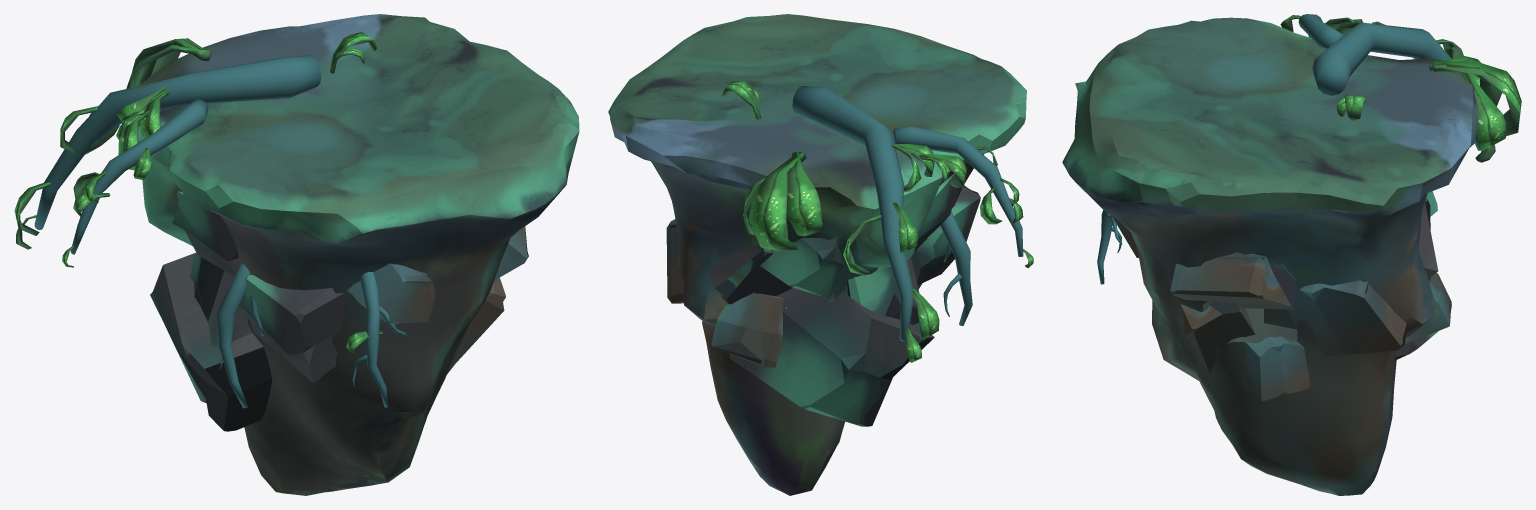
Rendered from AnomalyRockFirst.fbx.
3 views of the same model, side by side, from view 1: azimuth 30°, elevation 25°; view 2: azimuth 150°, elevation 25°; view 3: azimuth 270°, elevation 25° (orthographic). The views are drawn at different scales.
Visible parts, largest first — view 1: Cube.011, Cube.042, Cylinder.001, Cube.027, Cube.033, Cylinder.002, Cube.036, Cube.037, Cylinder.003, Cylinder.006, Cube.034, Cube.017 (+3 smaller); view 2: Cube.011, Cube.042, Cylinder.001, Cube.025, Cube.041, Cube.017, Cylinder.002, Cube.040, Cube.027, Cube.037, Cube.018, Cylinder.003 (+8 smaller); view 3: Cube.011, Cube.026, Cube.038, Cylinder.001, Cube.039, Cube.034, Cube.017, Cube.016, Cube.025, Cube.040, Cylinder.002, Cylinder.006 (+1 smaller).
Boxes of the visible parts, x1,y1,x2,y2 form: Cube.011: [122, 14, 579, 495]; Cube.042: [150, 252, 271, 431]; Cylinder.001: [34, 55, 321, 229]; Cube.027: [239, 273, 344, 382]; Cube.033: [347, 263, 435, 324]; Cylinder.002: [70, 99, 208, 254]; Cube.036: [173, 191, 240, 276]; Cube.037: [190, 252, 251, 345]; Cylinder.003: [216, 262, 250, 408]; Cylinder.006: [360, 272, 387, 407]; Cube.034: [447, 277, 505, 373]; Cube.017: [132, 38, 210, 75]; Cube.011: [608, 14, 1026, 495]; Cube.042: [729, 288, 934, 426]; Cylinder.001: [792, 86, 913, 341]; Cube.025: [711, 293, 783, 367]; Cube.041: [739, 237, 844, 298]; Cube.017: [748, 151, 806, 251]; Cylinder.002: [893, 126, 1023, 256]; Cube.040: [709, 245, 792, 304]; Cube.027: [911, 186, 980, 284]; Cube.037: [844, 258, 919, 324]; Cube.018: [786, 151, 823, 236]; Cylinder.003: [940, 211, 972, 325]; Cube.011: [1062, 17, 1478, 495]; Cube.026: [1287, 280, 1407, 356]; Cube.038: [1170, 252, 1295, 309]; Cylinder.001: [1312, 22, 1479, 150]; Cube.039: [1242, 336, 1310, 401]; Cube.034: [1181, 301, 1255, 373]; Cube.017: [1429, 61, 1521, 136]; Cube.016: [1461, 72, 1505, 151]; Cube.025: [1405, 272, 1451, 343]; Cube.040: [1418, 198, 1438, 280]; Cylinder.002: [1298, 14, 1343, 48]; Cylinder.006: [1097, 210, 1112, 284].
Size of the model in its own units: 5414 by 5182 by 5065.
